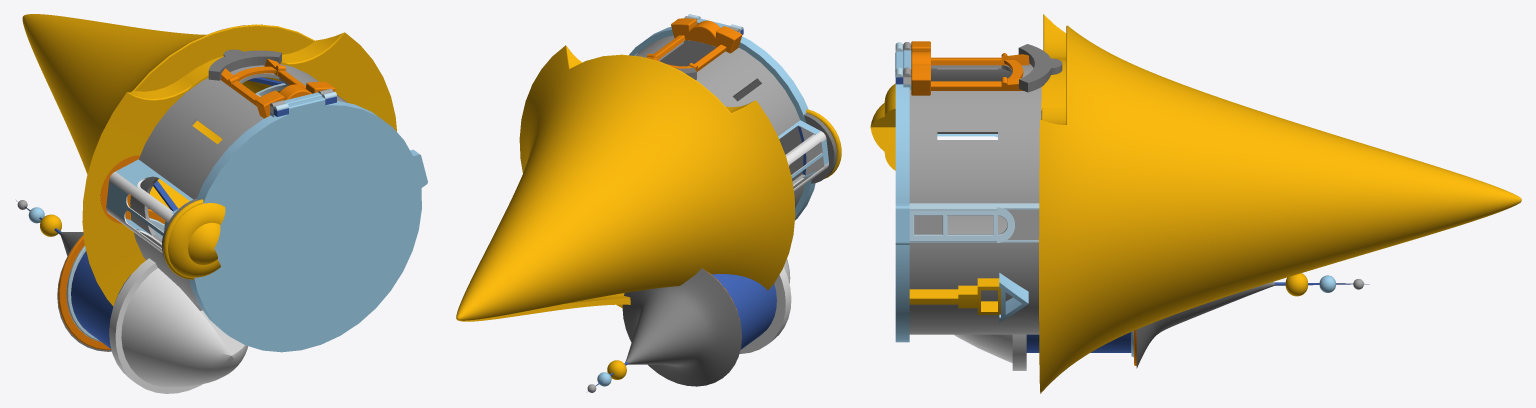
Rendered from Part Studio 7.1 Copy 1.dae.
3 renders of one model, left to right at view 1: azimuth 30°, elevation 25°; view 2: azimuth 150°, elevation 25°; view 3: azimuth 270°, elevation 25°, orthographic. The views are drawn at different scales.
Visible parts, largest first — view 1: 6839960815650411b755673c (×15); view 2: 6839960815650411b755673c (×11); view 3: 6839960815650411b755673c (×13).
Boxes of the visible parts, bbox=[...] form: 6839960815650411b755673c (×15): bbox=[22, 14, 427, 393]; 6839960815650411b755673c (×11): bbox=[456, 18, 841, 386]; 6839960815650411b755673c (×13): bbox=[870, 14, 1521, 393].
Bounding box in the file's own units: 0.2833 × 0.4689 × 0.2839.
